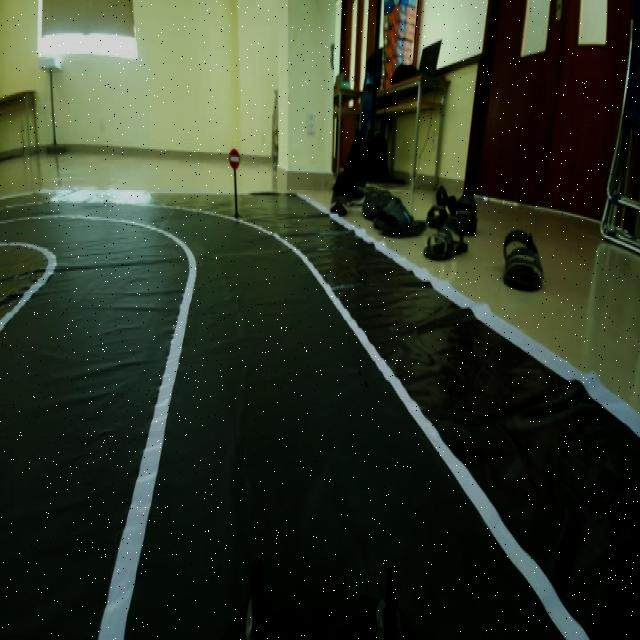no_entry: (223, 142, 245, 170)
